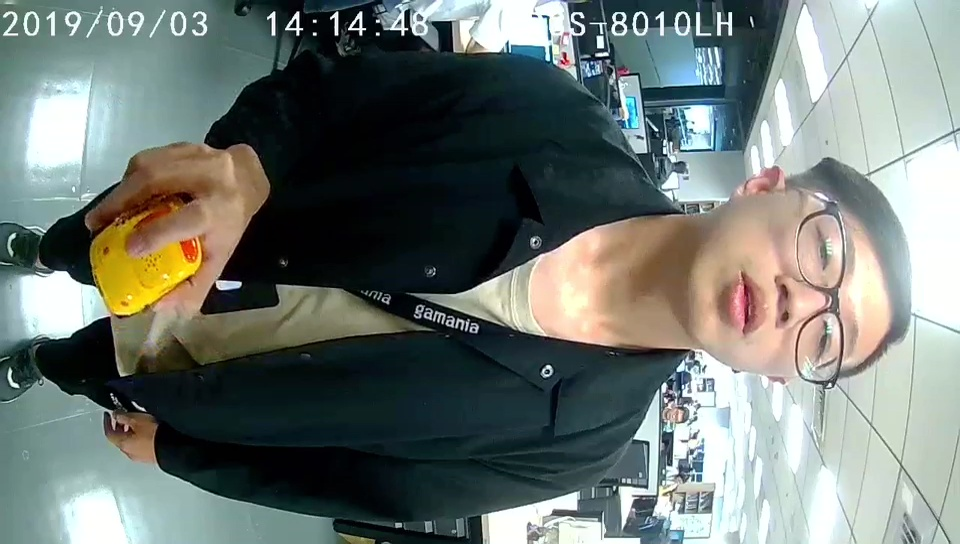car: (87, 198, 201, 318)
